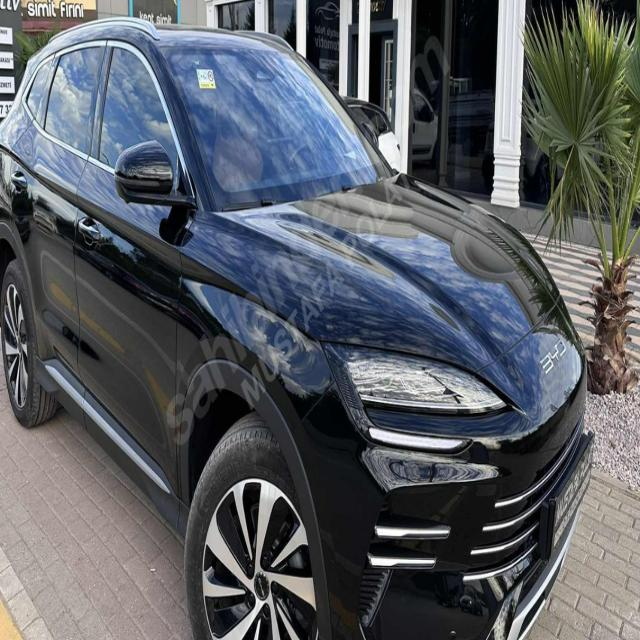byd: (536, 330, 571, 382)
